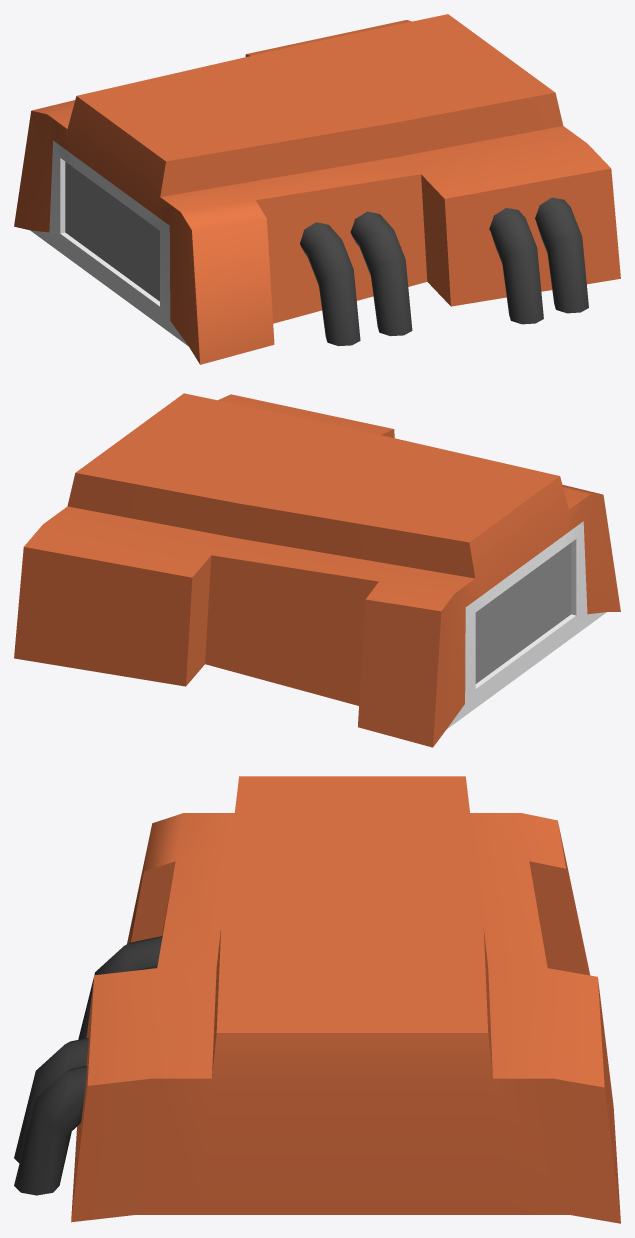
Rendered from Machine_10.fbx.
3 views of the same model, one above another, from view 1: azimuth 30°, elevation 25°; view 2: azimuth 150°, elevation 25°; view 3: azimuth 270°, elevation 25° (orthographic). The views are drawn at different scales.
Parts seen in each view (by area): view 1: Machine_10; view 2: Machine_10; view 3: Machine_10.
Part boxes in pixels (x1,y1,x2,y2): Machine_10: (14,14,620,364); Machine_10: (14,393,620,747); Machine_10: (14,776,620,1223).
Size of the model in its own units: 959 by 377 by 990.
